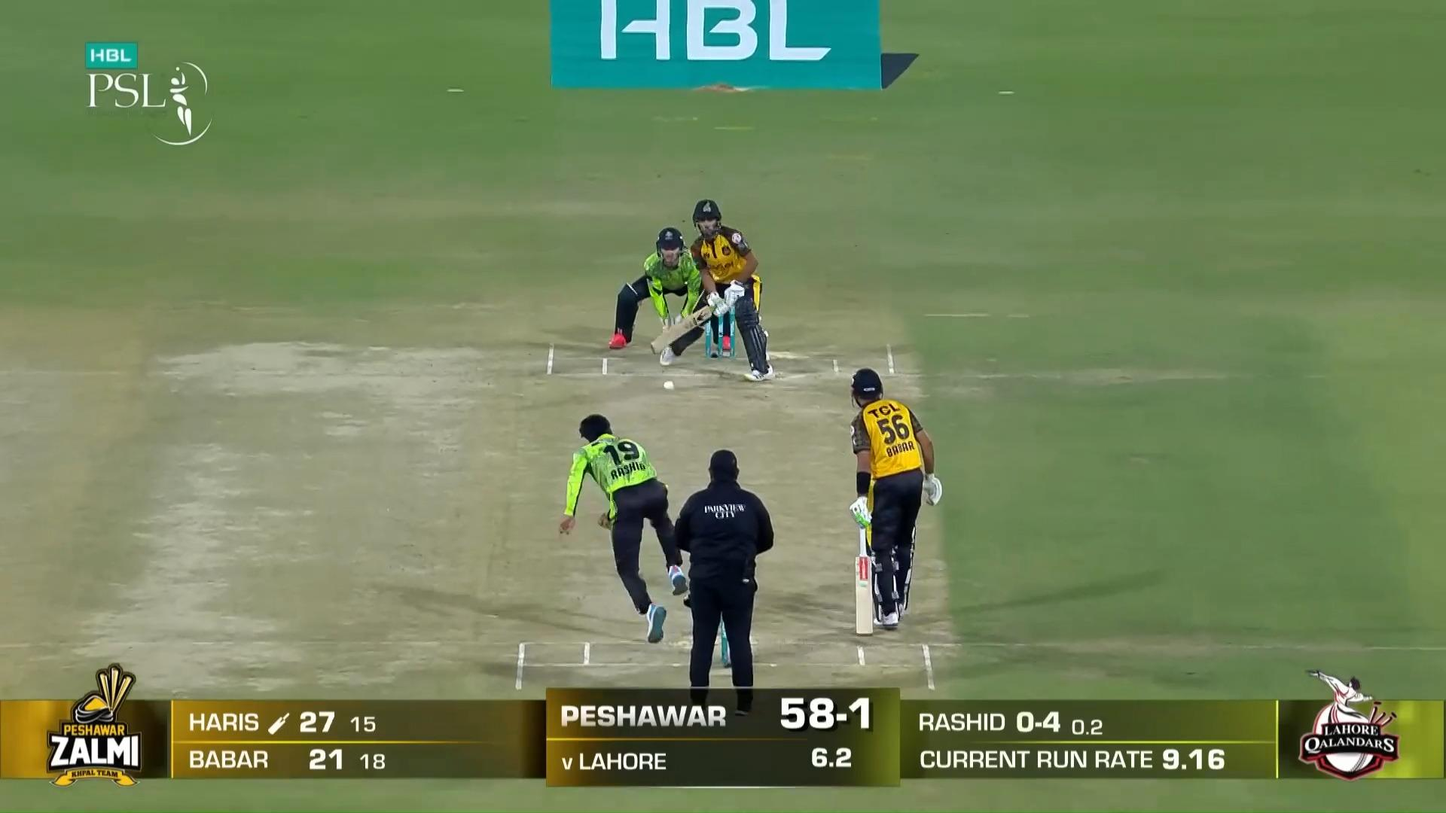batsman: (651, 199, 776, 382)
